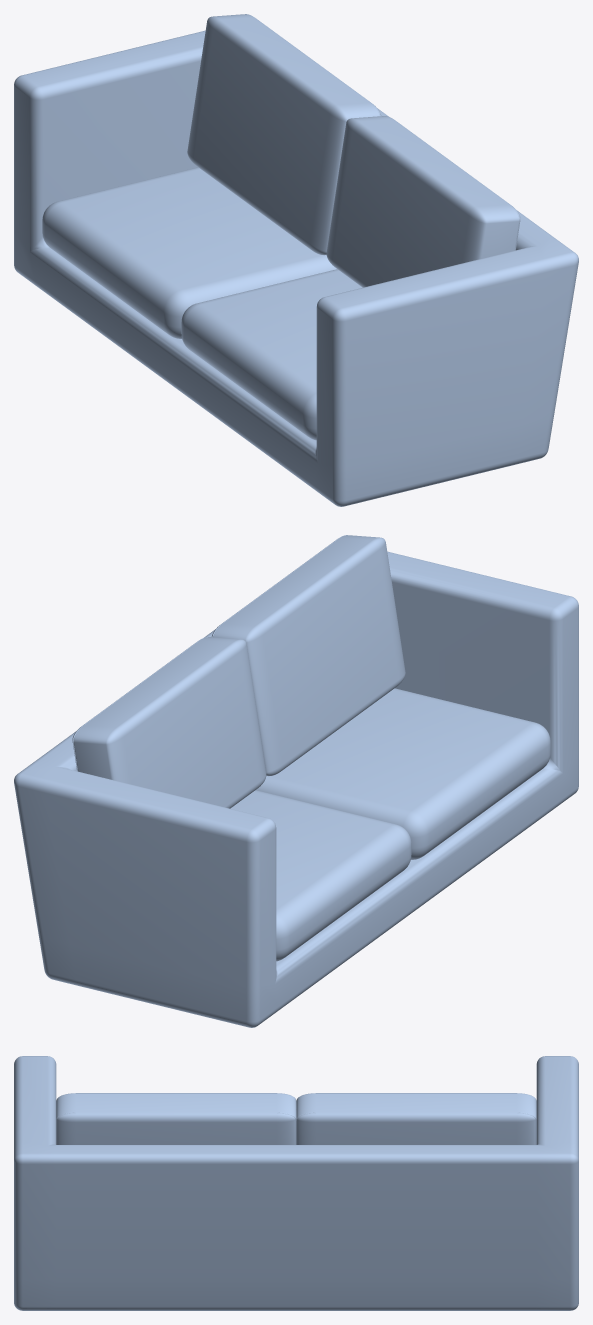
Rendered from couch.fbx.
The picture shows the model from 3 angles, top to bottom: view 1: azimuth 30°, elevation 25°; view 2: azimuth 150°, elevation 25°; view 3: azimuth 270°, elevation 25°; orthographic projection. The views are drawn at different scales.
Visible parts, largest first — view 1: Object_25.001, Object_31.001, Object_29.001; view 2: Object_25.001, Object_31.001, Object_29.001; view 3: Object_25.001, Object_31.001.
Boxes of the visible parts, x1,y1,x2,y2 form: Object_25.001: (14, 30, 578, 506); Object_31.001: (187, 14, 520, 287); Object_29.001: (42, 167, 362, 440); Object_25.001: (14, 551, 578, 1027); Object_31.001: (72, 535, 405, 808); Object_29.001: (230, 688, 550, 961); Object_25.001: (14, 1056, 578, 1310); Object_31.001: (56, 1093, 536, 1144).
Size of the model in its own units: 97.31 by 89.49 by 225.
